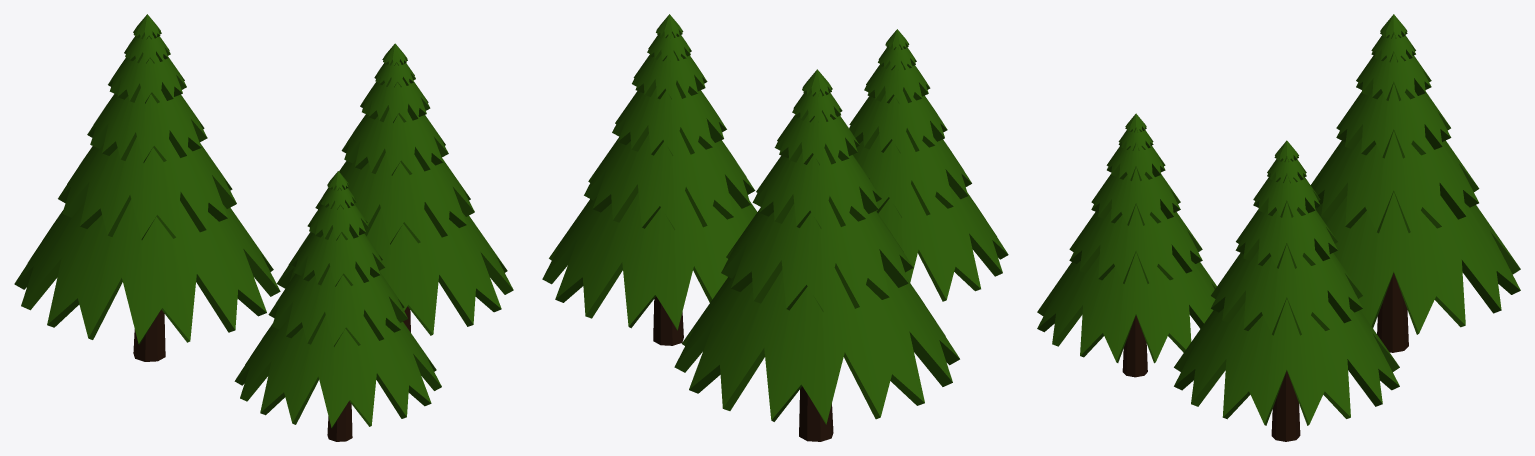
File: three_tree.glb
3 views of the same model, side by side, from view 1: azimuth 30°, elevation 25°; view 2: azimuth 150°, elevation 25°; view 3: azimuth 270°, elevation 25° (orthographic). The views are drawn at different scales.
Parts seen in each view (by area): view 1: Окружность.001, Окружность.002, Окружность.003; view 2: Окружность.001, Окружность.003, Окружность.002; view 3: Окружность.001, Окружность.003, Окружность.002.
Part boxes in pixels (x1,y1,x2,y2): Окружность.001: [14, 14, 280, 361]; Окружность.002: [234, 171, 441, 441]; Окружность.003: [276, 43, 513, 335]; Окружность.001: [674, 69, 959, 441]; Окружность.003: [542, 14, 757, 345]; Окружность.002: [849, 29, 1008, 301]; Окружность.001: [1310, 14, 1520, 352]; Окружность.003: [1174, 140, 1399, 441]; Окружность.002: [1037, 113, 1216, 377].
Bounding box in the file's own units: 3.19 × 2.56 × 3.39.
2 materials, 2 textured.
